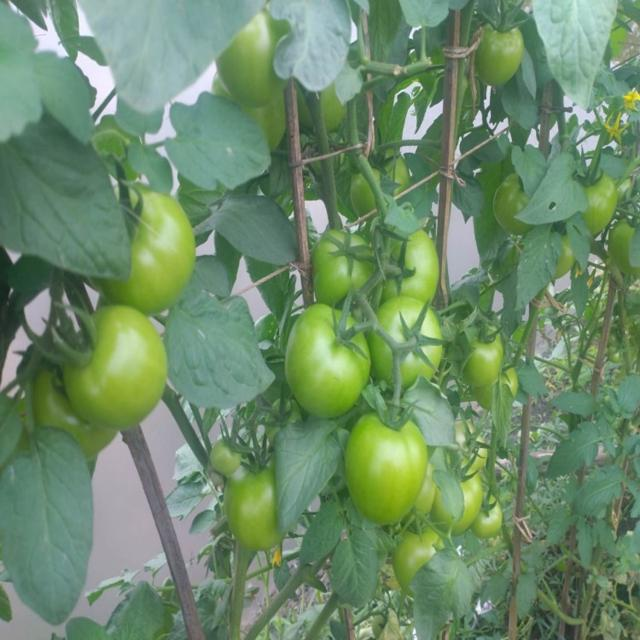tomato: (109, 179, 198, 307), (75, 301, 165, 420), (34, 359, 121, 459), (289, 306, 366, 413), (349, 410, 423, 516), (368, 295, 436, 384), (220, 26, 290, 102), (466, 13, 522, 89), (316, 231, 375, 303), (388, 229, 443, 301), (349, 151, 411, 211), (229, 472, 277, 549), (441, 465, 478, 537), (298, 81, 346, 135), (462, 322, 498, 388), (608, 212, 640, 280), (492, 170, 524, 234), (395, 528, 438, 575), (253, 98, 294, 147), (583, 168, 608, 236), (210, 435, 247, 478), (547, 234, 578, 284), (478, 494, 506, 544), (486, 367, 521, 404), (460, 418, 484, 470)
